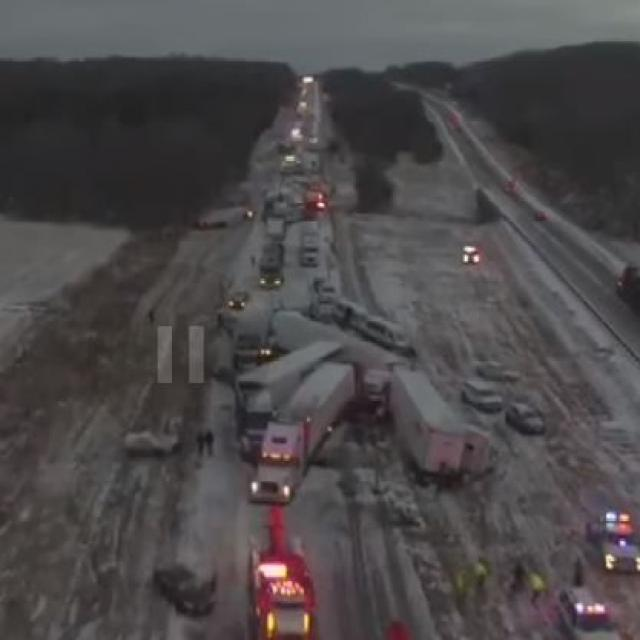traffic_incident: (215, 286, 485, 502), (272, 166, 333, 251)
